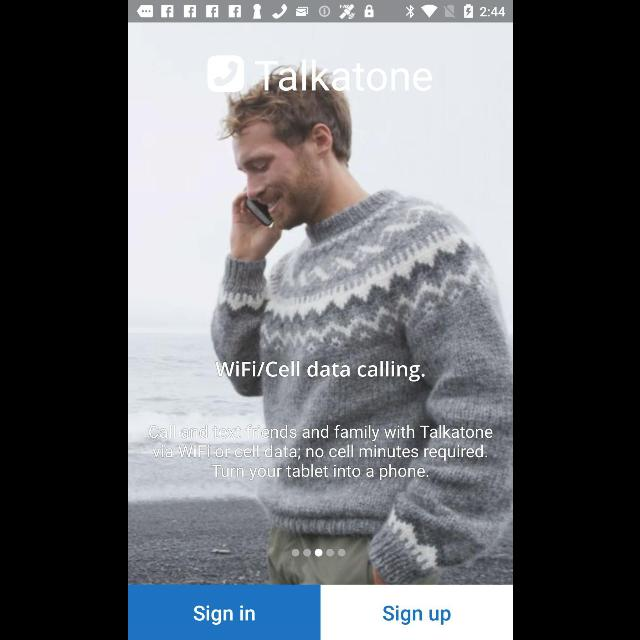backgroundimage: (128, 23, 512, 584)
image: (206, 56, 244, 92)
pageindicator: (290, 548, 346, 558)
text: (148, 424, 492, 481), (253, 59, 432, 91), (213, 361, 423, 381)
textbutton: (127, 584, 319, 640), (320, 584, 512, 640)
uppertaskbar: (128, 1, 512, 23)
